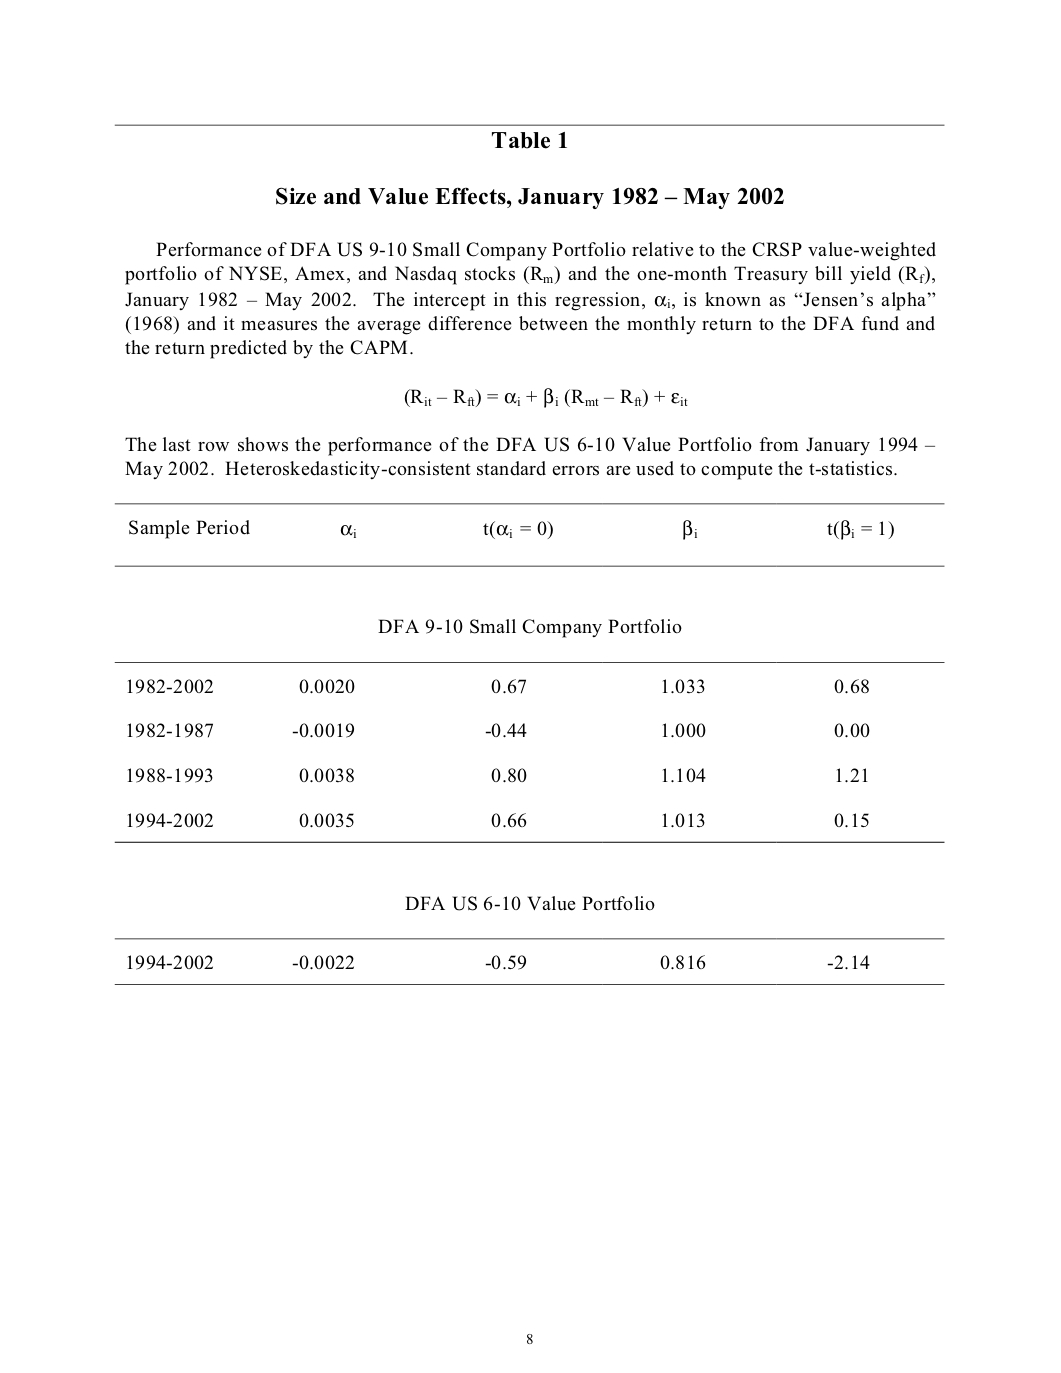Table: (114, 662, 944, 843), (114, 503, 944, 566), (114, 938, 944, 984)
formula: (403, 387, 687, 408)
